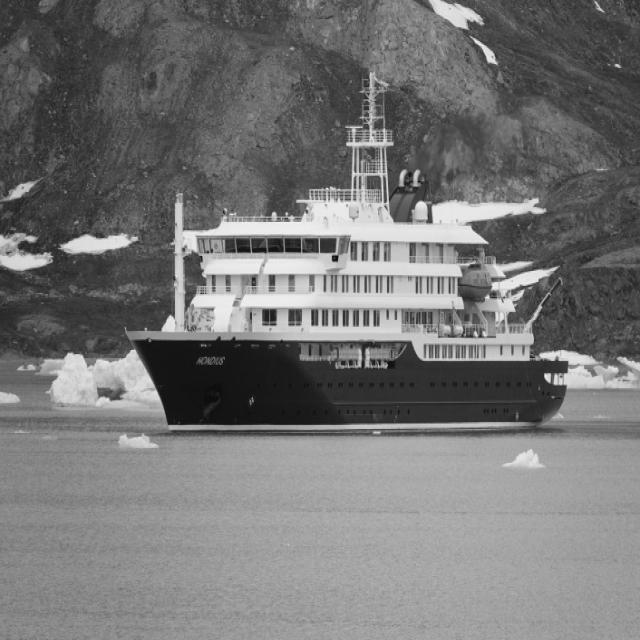cruises: (118, 69, 577, 440)
